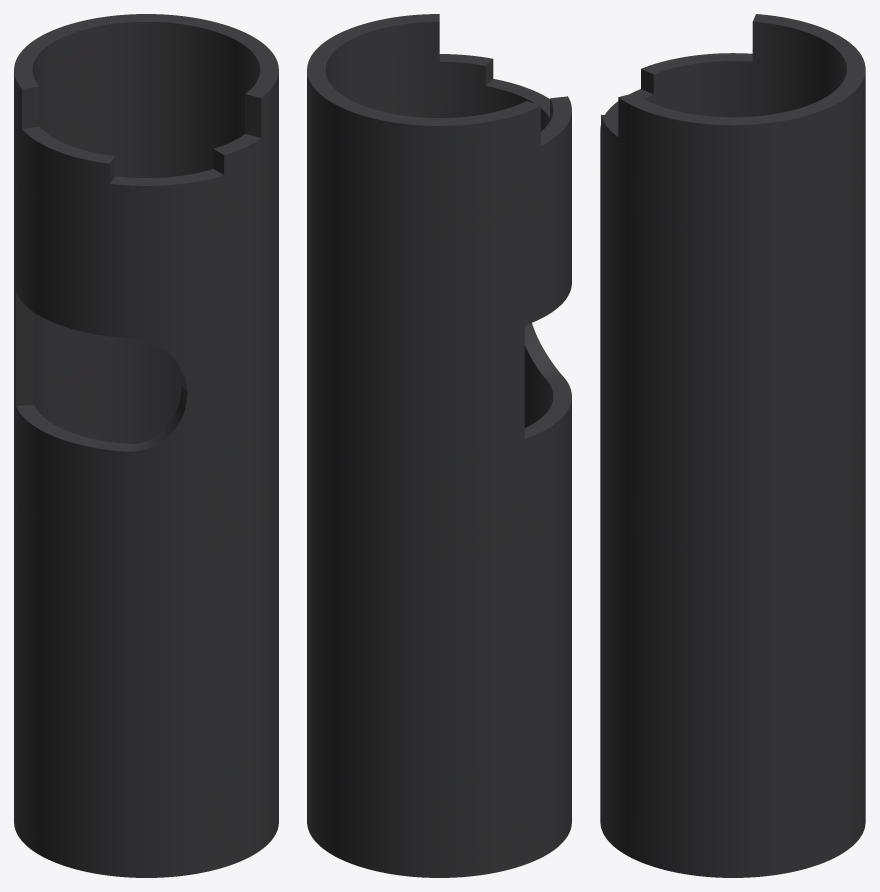
Rendered from 04_jezdec_cerna.glb.
3 renders of one model, left to right at view 1: azimuth 30°, elevation 25°; view 2: azimuth 150°, elevation 25°; view 3: azimuth 270°, elevation 25°, orthographic.
Visible parts, largest first — view 1: 04_jezdec_cerna; view 2: 04_jezdec_cerna; view 3: 04_jezdec_cerna.
Boxes of the visible parts, x1=… form: 04_jezdec_cerna: x1=14, y1=14, x2=278, y2=877; 04_jezdec_cerna: x1=307, y1=14, x2=571, y2=877; 04_jezdec_cerna: x1=600, y1=14, x2=865, y2=877.
Size of the model in its own units: 0.03 by 0.094 by 0.03.
Materials: 1 (1 with a texture image).
